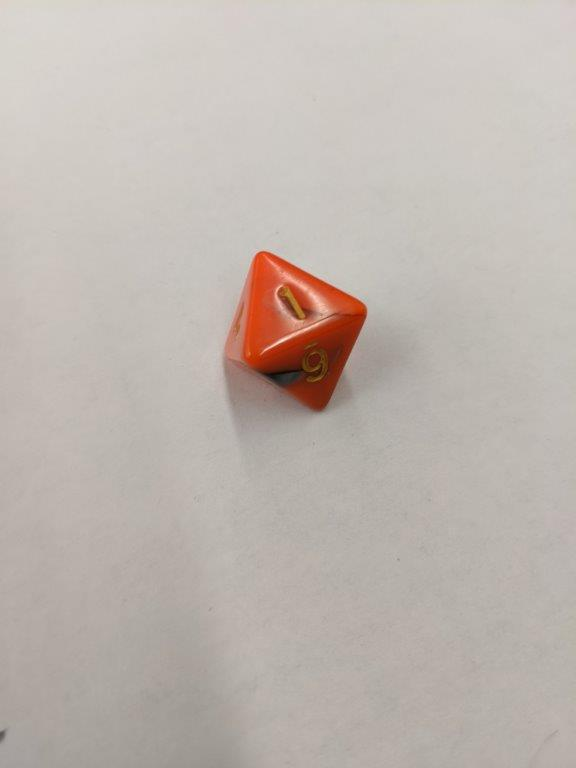d8-1: (218, 248, 370, 413)
